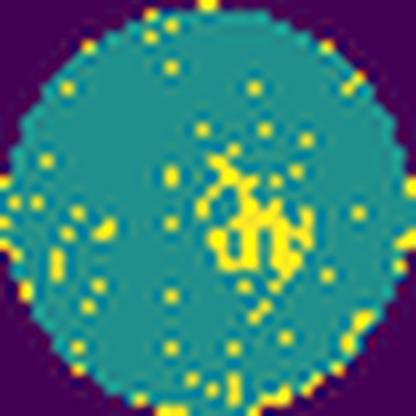Loc: (192, 147, 317, 293)
